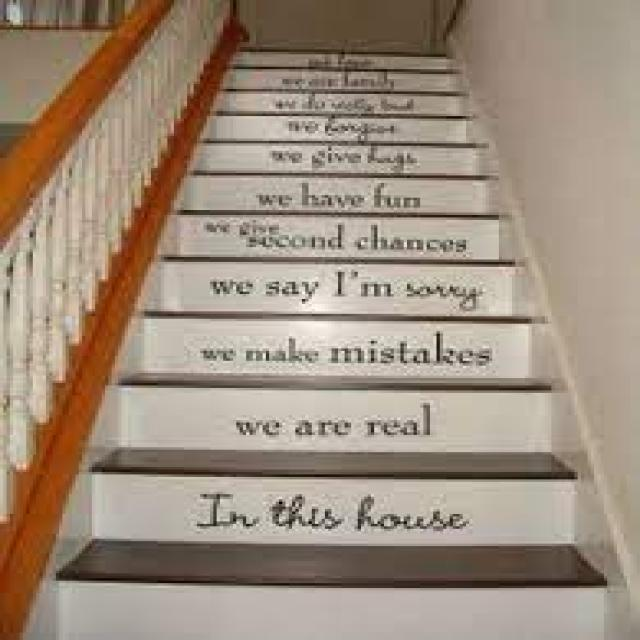upstair: (99, 43, 628, 631)
